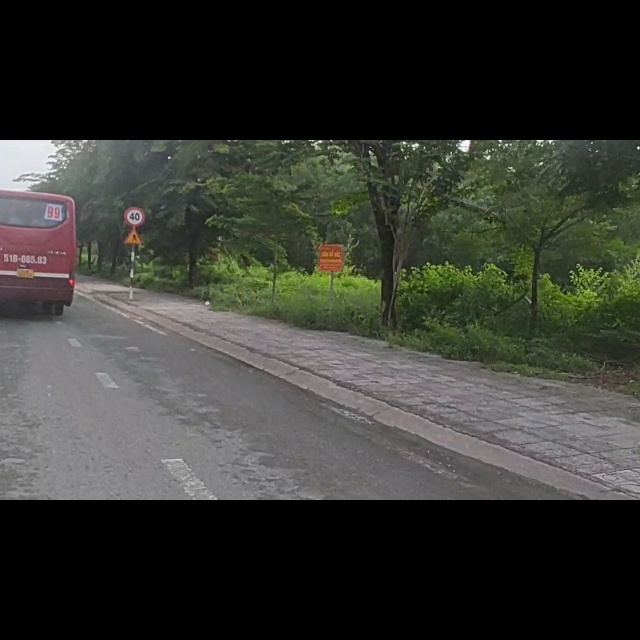bien_nguy_hiem: (123, 152, 145, 191), (125, 117, 146, 155)
